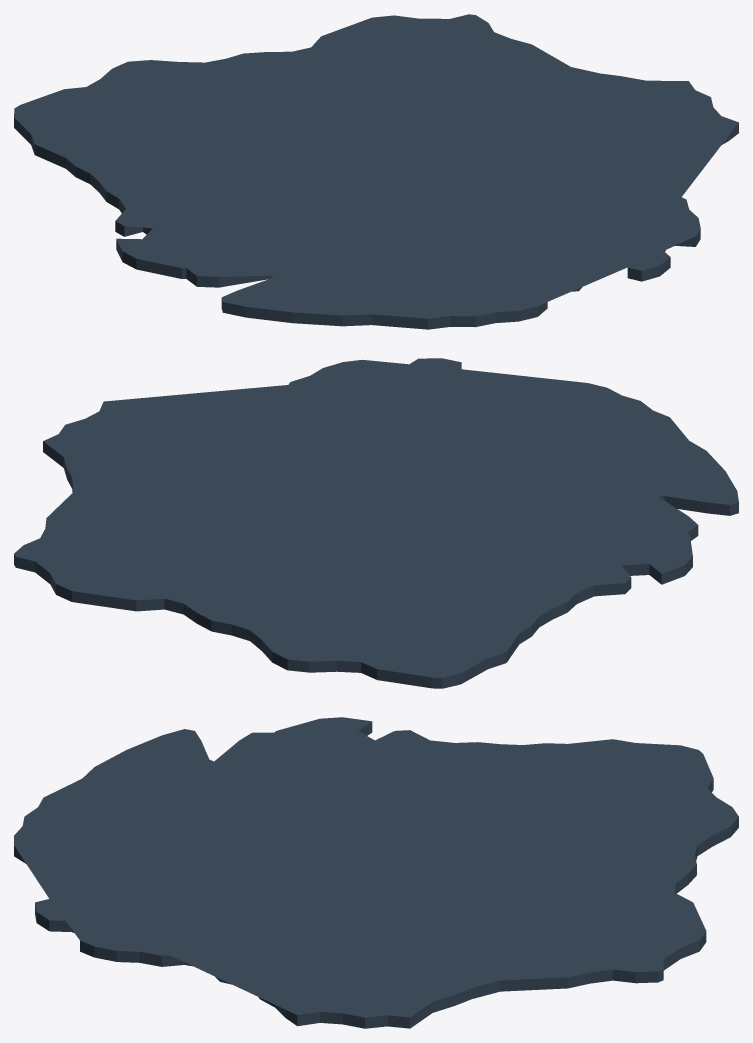
The model's file is AW_Ground02.fbx.
The picture shows the model from 3 angles, top to bottom: view 1: azimuth 30°, elevation 25°; view 2: azimuth 150°, elevation 25°; view 3: azimuth 270°, elevation 25°; orthographic projection. The views are drawn at different scales.
Parts seen in each view (by area): view 1: AW_Ground02; view 2: AW_Ground02; view 3: AW_Ground02.
Boxes of the visible parts, left/top/right/bottom form: AW_Ground02: left=14, top=14, right=738, bottom=329; AW_Ground02: left=14, top=358, right=738, bottom=688; AW_Ground02: left=14, top=717, right=738, bottom=1028.
Size of the model in its own units: 870 by 15 by 887.
Materials: 1 (1 with a texture image).
